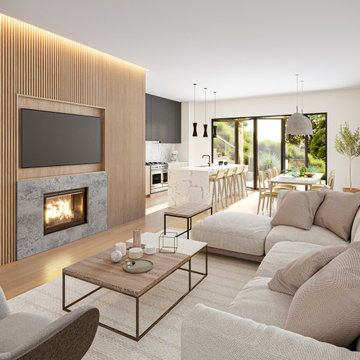TV: (18, 105, 104, 170)
chair: (0, 282, 101, 360)
dining table set: (255, 163, 333, 211), (171, 161, 247, 210)
sofa: (181, 187, 360, 359)
table: (61, 230, 210, 342)
